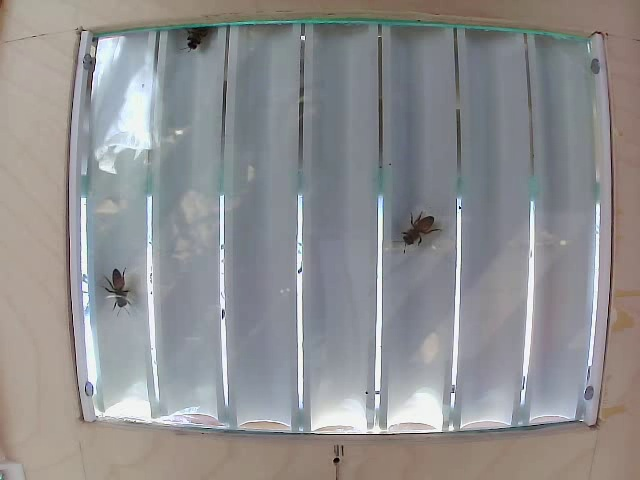bee: (90, 261, 149, 322), (388, 207, 447, 262), (173, 17, 219, 64)
